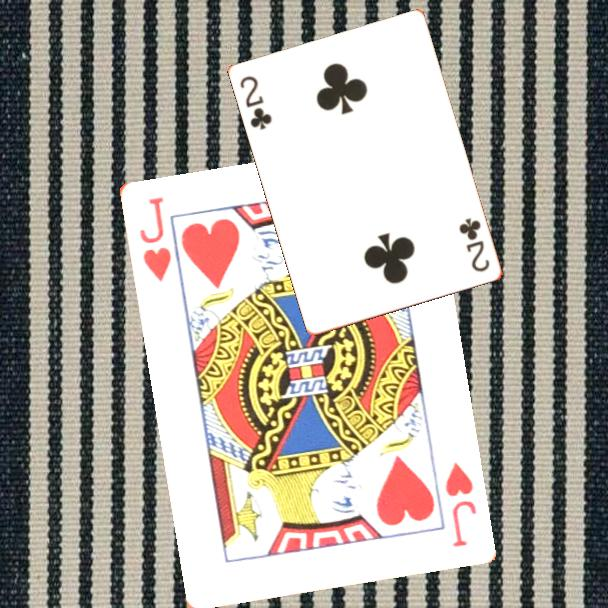c02: (237, 72, 275, 133), (456, 214, 493, 275)
h11: (136, 193, 174, 284), (441, 458, 479, 549)
